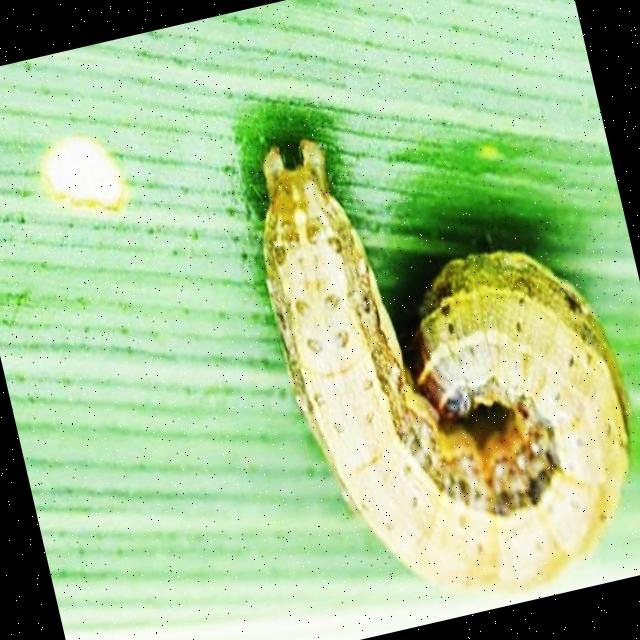worm: (234, 79, 640, 636)
